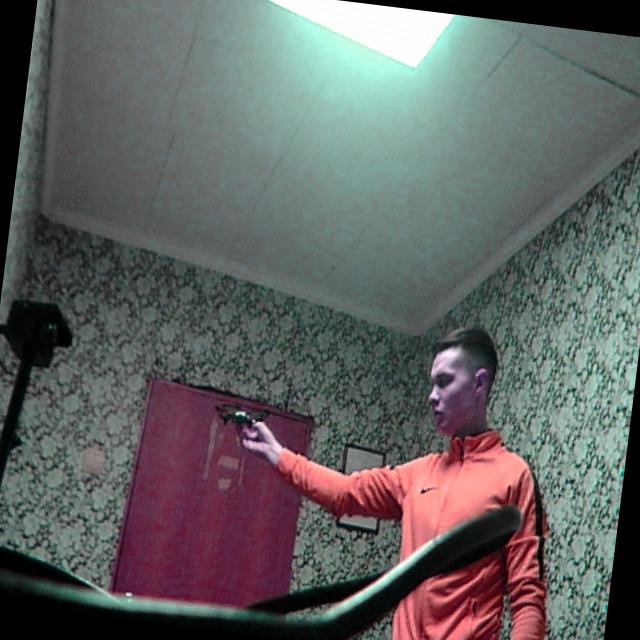drone: (208, 382, 284, 450)
